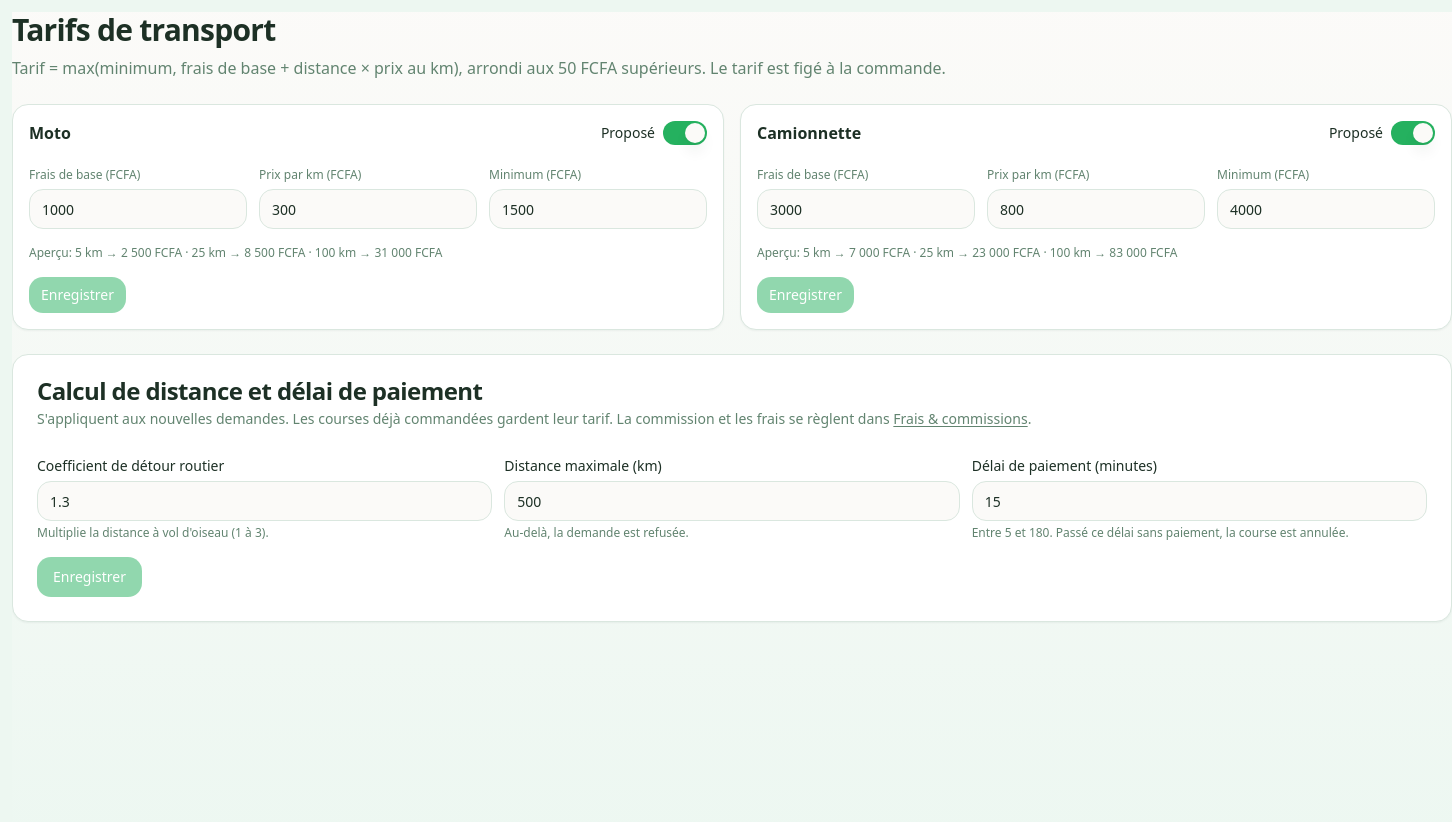
Scenario: AdminTransportPricingPage › rejects out-of-range settings locally
Check: the element with test id "tariff-moto" is shown, box [12, 104, 724, 330]
Replace the text in the field with id "road-factor" with "0.8" at (265, 501), box [37, 481, 492, 521]
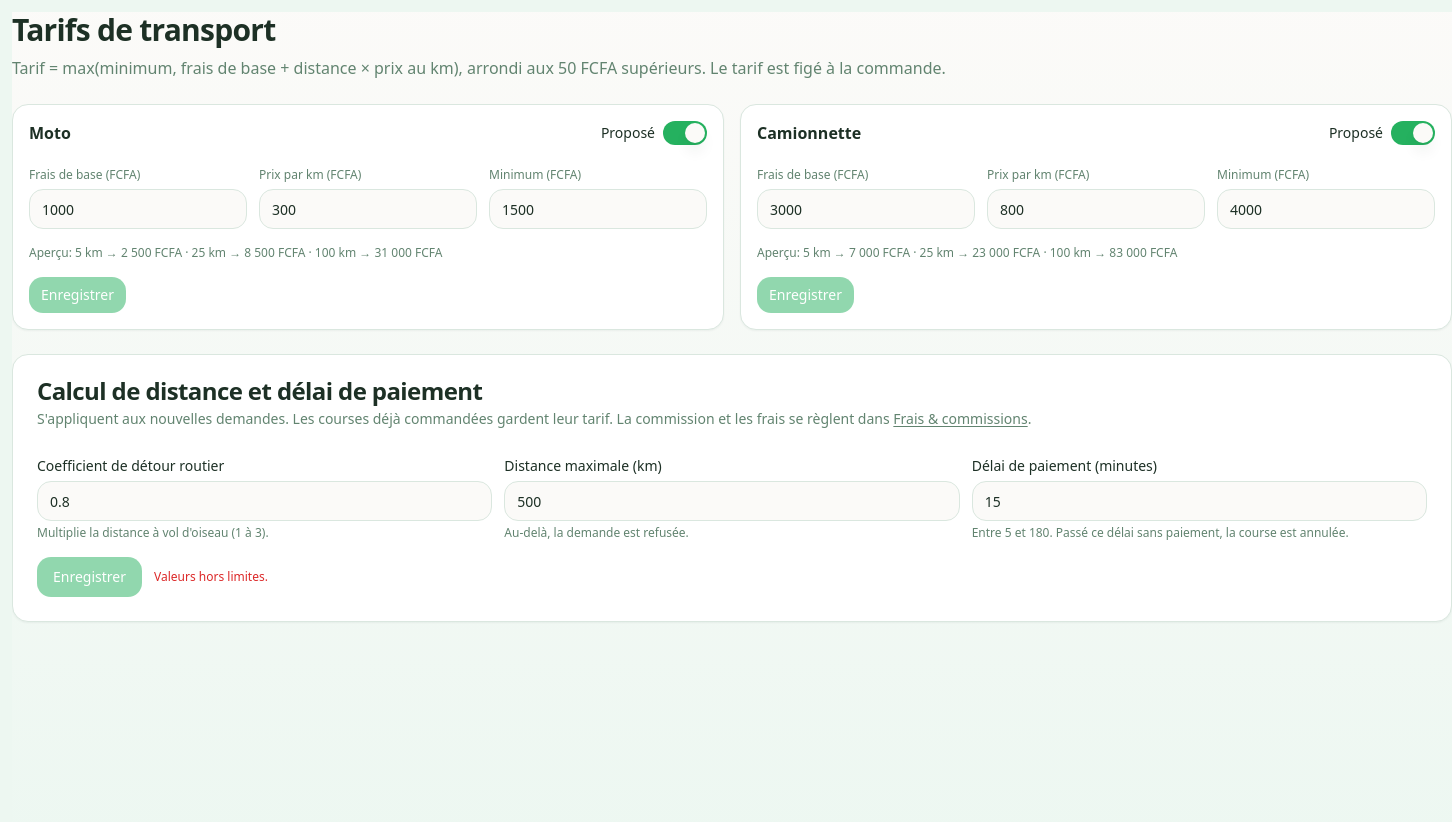
Check: the button "Enregistrer" next to "Valeurs hors limites." is disabled, box [37, 557, 142, 597]
Check: the text "Valeurs hors limites." is shown, box [154, 569, 268, 585]
Replace the text in the field with id "road-factor" with "1.3" at (265, 501), box [37, 481, 492, 521]
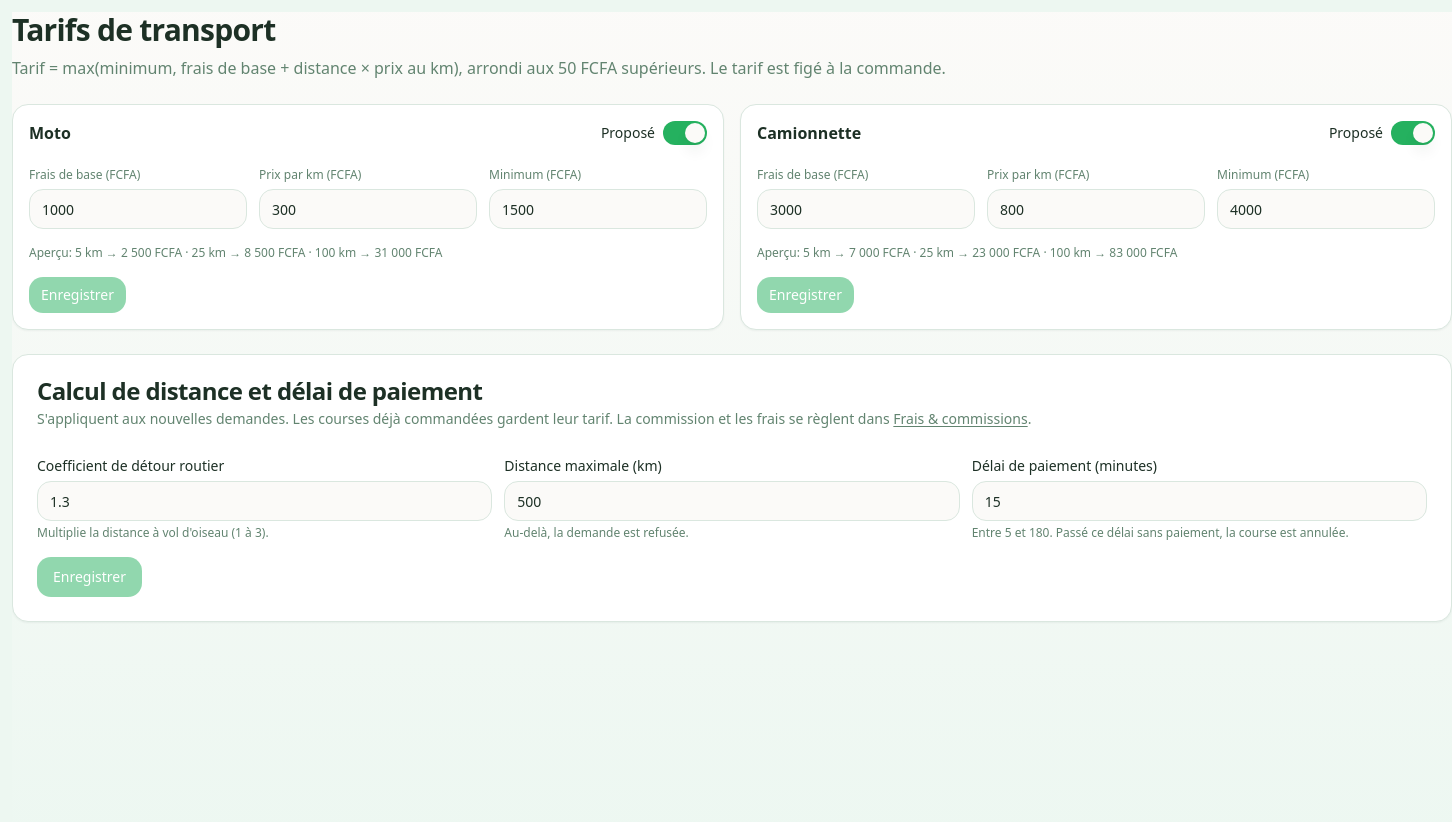
Replace the text in the field with id "max-km" with "5000" at (732, 501), box [504, 481, 960, 521]
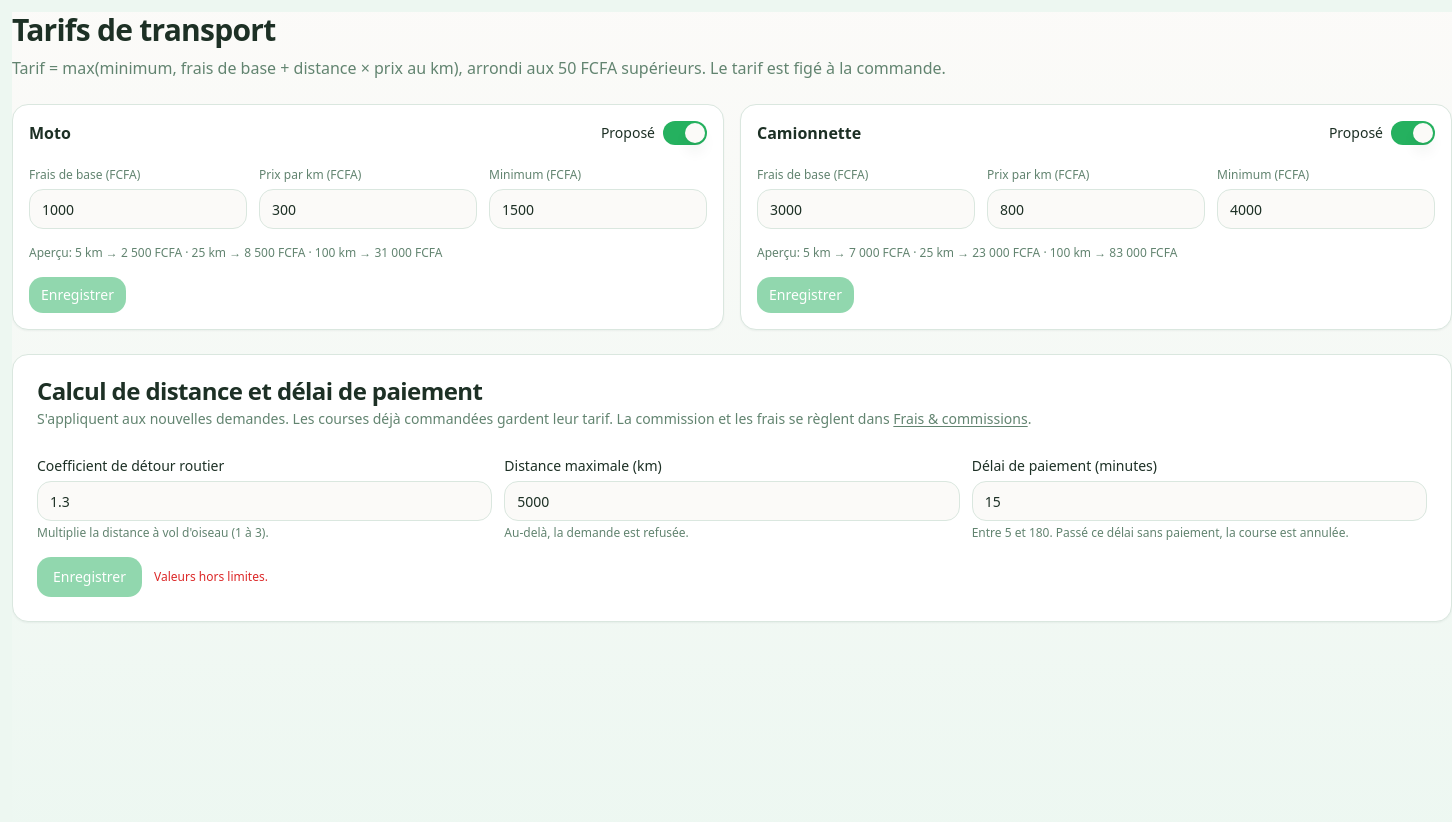
Check: the text "Valeurs hors limites." is shown, box [154, 569, 268, 585]
